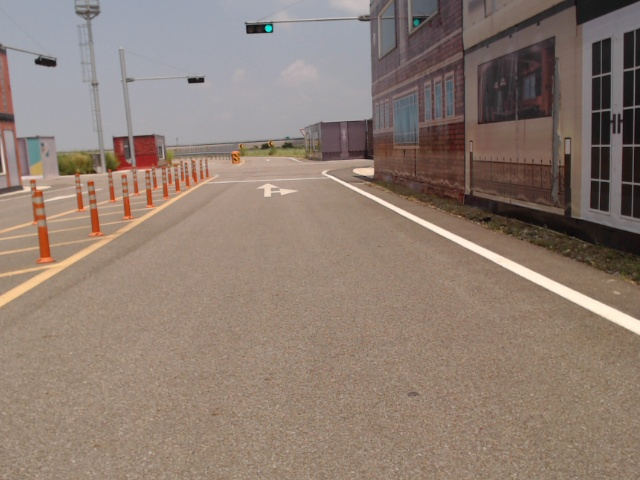green_3: (246, 24, 274, 34)
